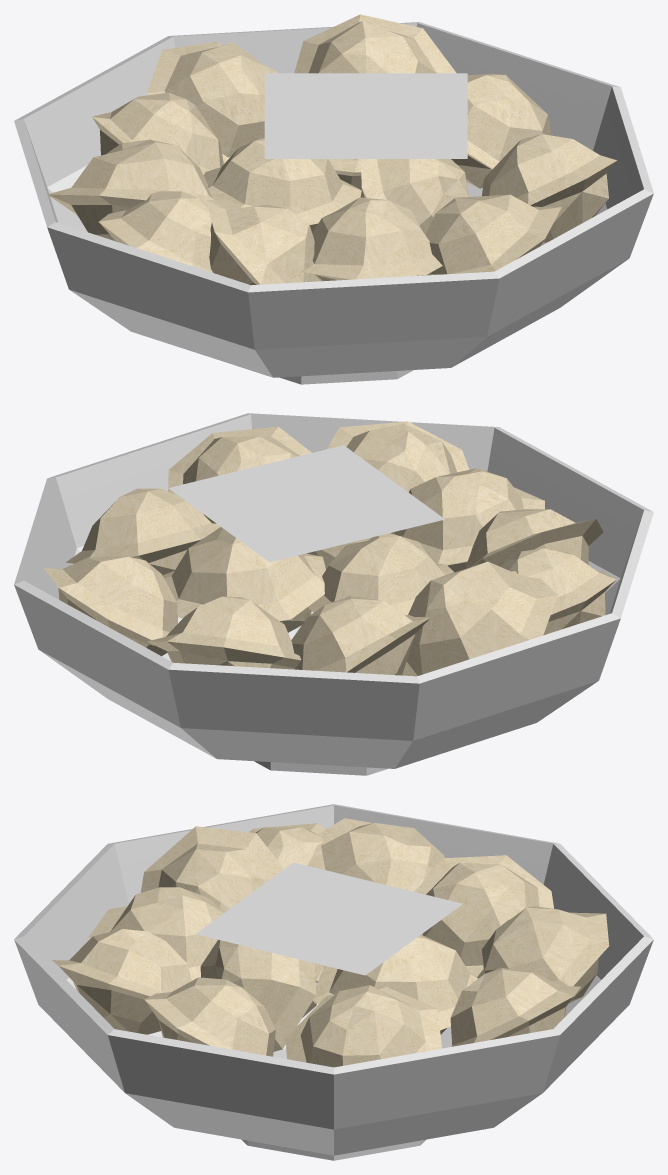
Rendered from PelmeniCooked.fbx.
The picture shows the model from 3 angles, top to bottom: view 1: azimuth 30°, elevation 25°; view 2: azimuth 150°, elevation 25°; view 3: azimuth 270°, elevation 25°; orthographic projection. The views are drawn at different scales.
Visible parts, largest first — view 1: Pelmen.002, PelmeniPlate.001, logo.009; view 2: Pelmen.002, PelmeniPlate.001, logo.009; view 3: Pelmen.002, PelmeniPlate.001, logo.009.
Part boxes in pixels (x1=…): Pelmen.002: x1=47, y1=14, x2=617, y2=285; PelmeniPlate.001: x1=14, y1=22, x2=653, y2=384; logo.009: x1=264, y1=73, x2=467, y2=158; Pelmen.002: x1=43, y1=421, x2=616, y2=676; PelmeniPlate.001: x1=14, y1=413, x2=653, y2=775; logo.009: x1=168, y1=445, x2=444, y2=562; Pelmen.002: x1=52, y1=818, x2=609, y2=1067; PelmeniPlate.001: x1=14, y1=804, x2=653, y2=1160; logo.009: x1=195, y1=862, x2=462, y2=975.
Bounding box in the file's own units: 3.08 × 1.08 × 3.08.
3 materials, 1 textured.
